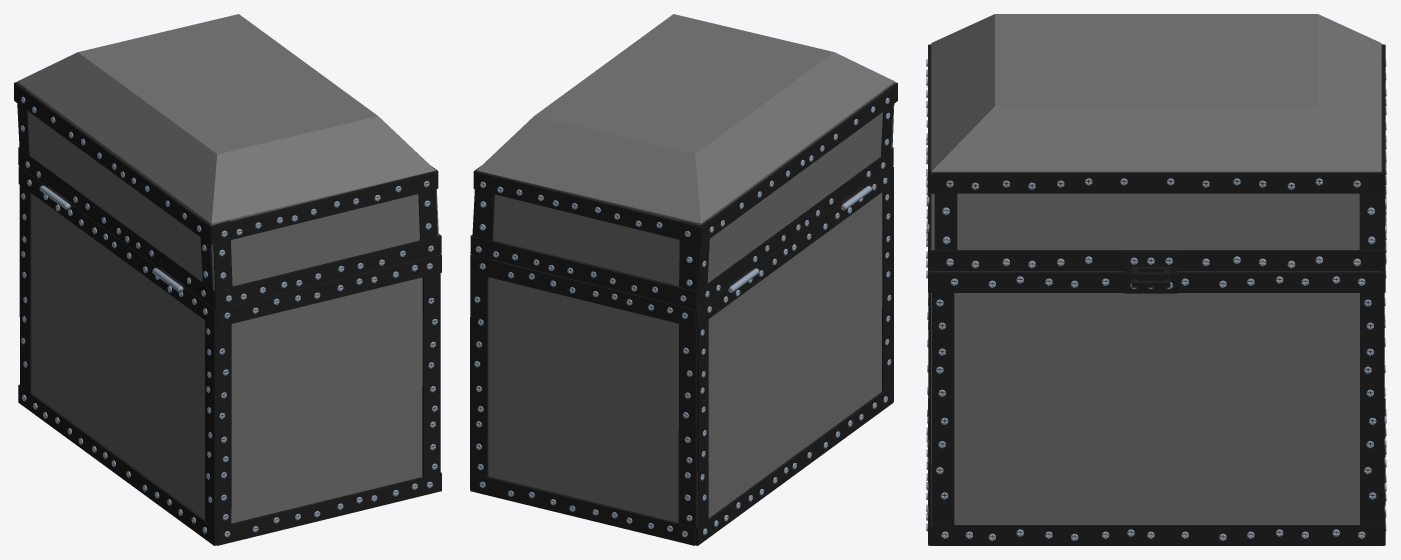
Rendered from chest_C -1.fbx.
The picture shows the model from 3 angles, left to right: view 1: azimuth 30°, elevation 25°; view 2: azimuth 150°, elevation 25°; view 3: azimuth 270°, elevation 25°; orthographic projection. The views are drawn at different scales.
Visible parts, largest first — view 1: Cube.166; view 2: Cube.166; view 3: Cube.166.
Part boxes in pixels (x1,y1,x2,y2): Cube.166: [14, 14, 441, 545]; Cube.166: [470, 14, 897, 545]; Cube.166: [926, 14, 1386, 545].
Size of the model in its own units: 44.7 by 61.92 by 61.37.
